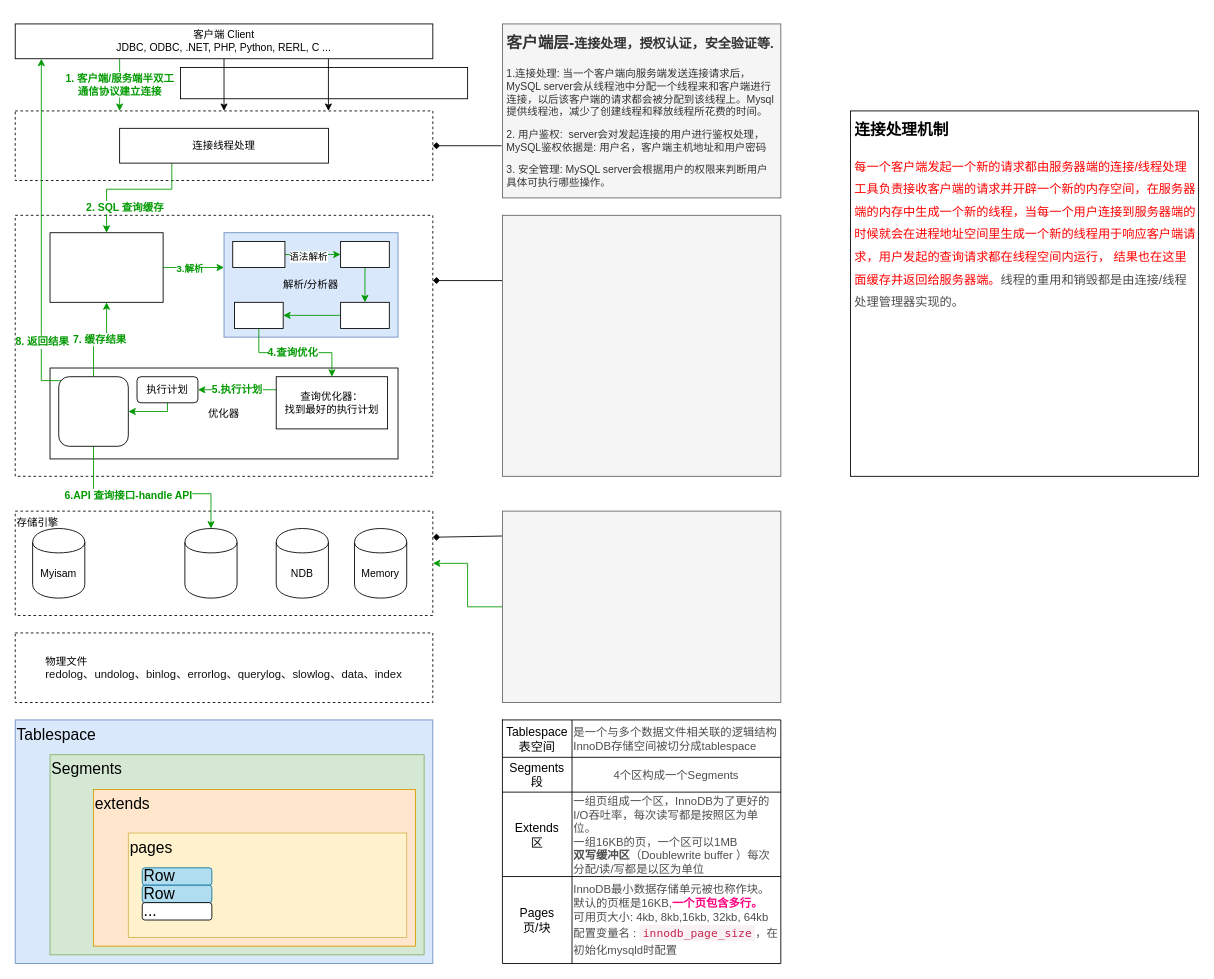
Image size: 1214x979. Some labels were removed from this diagram. The centre of each missing label's shape, as x and y in pixels:
"InnoDB" belongs at [210,563].
"半双工通信协议：在任一时刻，要么服务器向客户端发数据， 要么客户端向服务器发数据，两个动作不能同时发生" belongs at [324,83].
"存储引擎层 负责MySQL中数据的存储和提取。 MySQL中服务器层不管理事务，事务是由存储引擎实现的 。" belongs at [641,606].
"新 解析树" belongs at [258,314].
"服务器层 包括查询解析、分析、优化、缓存、内置函数(比如：时间、数学、加密等函数)。 所有的跨存储引擎的功能也在这一层实现：存储过程、触发器、视图等" belongs at [641,345].
"查询执行引擎" belongs at [93,411].
"查询缓存" belongs at [106,267].
"解析 树" belongs at [364,254].
"解析器" belongs at [258,254].
"预处理器" belongs at [364,314].
